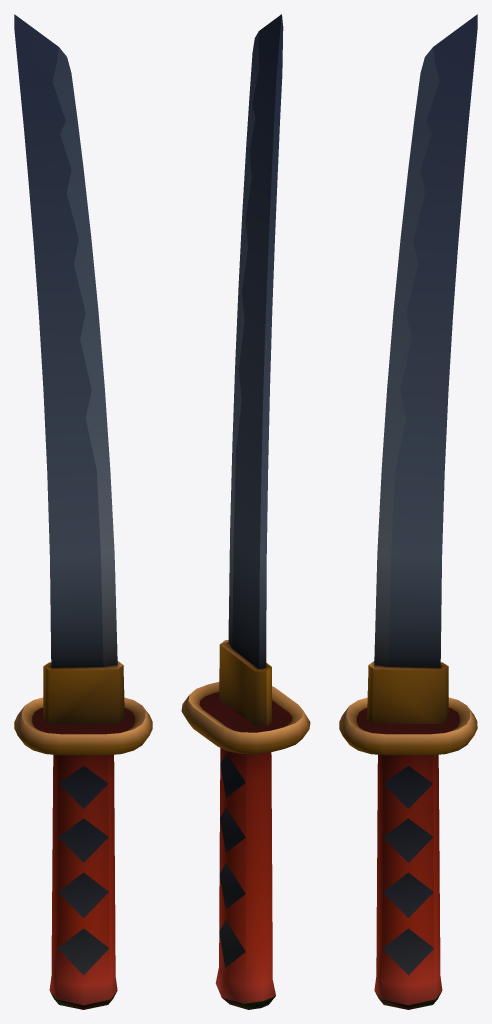
The model's file is katana.glb.
3 views of the same model, side by side, from view 1: azimuth 90°, elevation 25°; view 2: azimuth 210°, elevation 25°; view 3: azimuth 270°, elevation 25° (orthographic). The views are drawn at different scales.
Parts seen in each view (by area): view 1: ColdArms_Katana_NA01.002; view 2: ColdArms_Katana_NA01.002; view 3: ColdArms_Katana_NA01.002.
Boxes of the visible parts, <box> form: ColdArms_Katana_NA01.002: <box>14,14,152,1009</box>; ColdArms_Katana_NA01.002: <box>181,14,310,1009</box>; ColdArms_Katana_NA01.002: <box>339,14,477,1009</box>.
Size of the model in its own units: 0.1991 by 2.11 by 0.2676.
